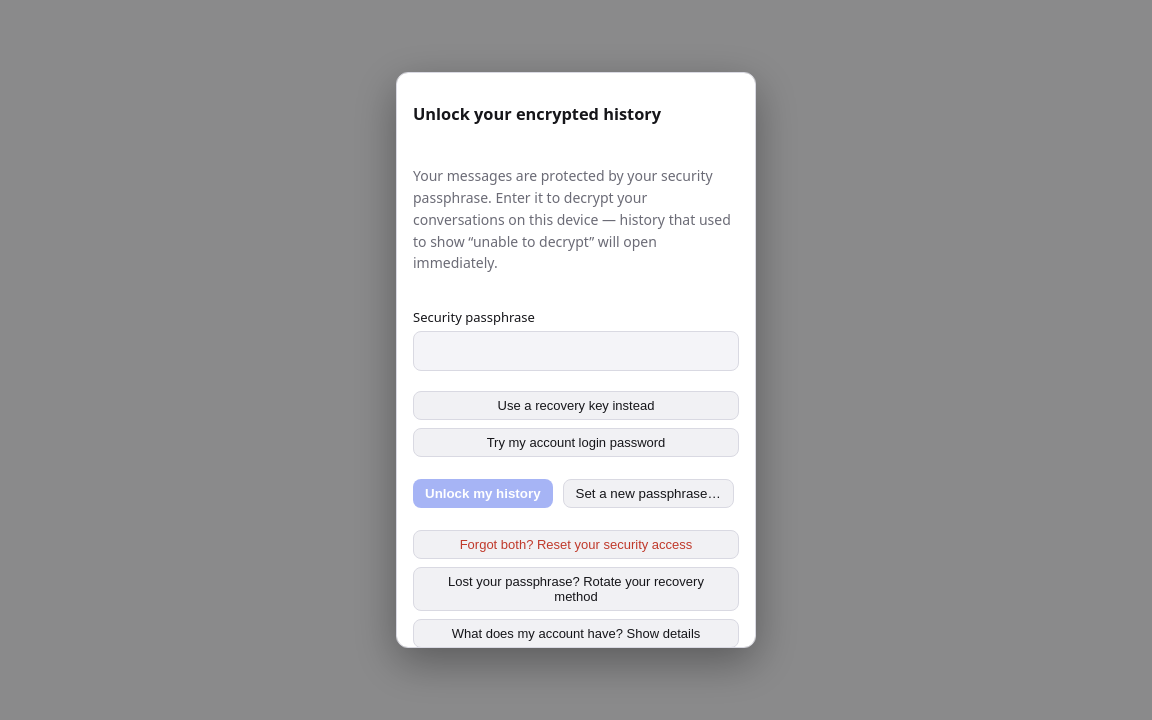
it: W24 full rotation → forced ack › edge H (master never in 4S): key view adds the honest verify-elsewhere copy
The image size is (1152, 720).
Click the button with test id "rotate-entry".
click(576, 589)  # box [413,567,739,611]
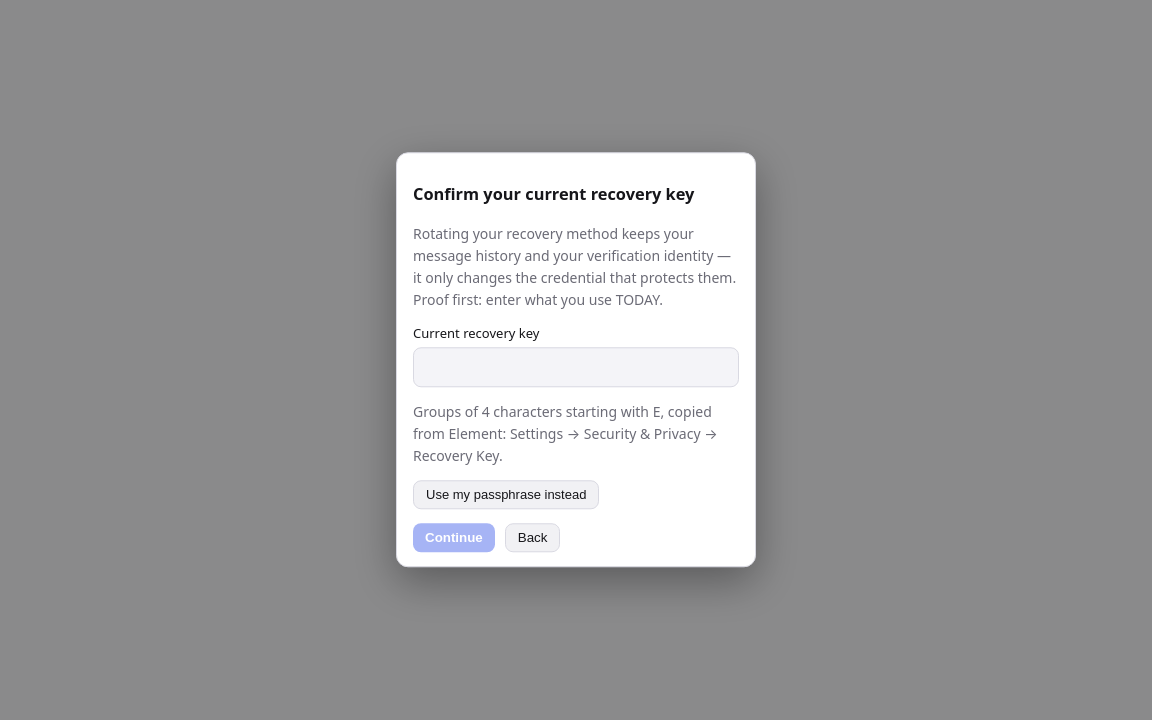
Expected: the element with test id "rotate-prove" is shown, [413,167,739,553]
Type "EoJp ABCD EFGH IJKL" into the field with test id "rotate-proof".
click(576, 368); type("EoJp ABCD EFGH IJKL")  # box [413,347,739,388]
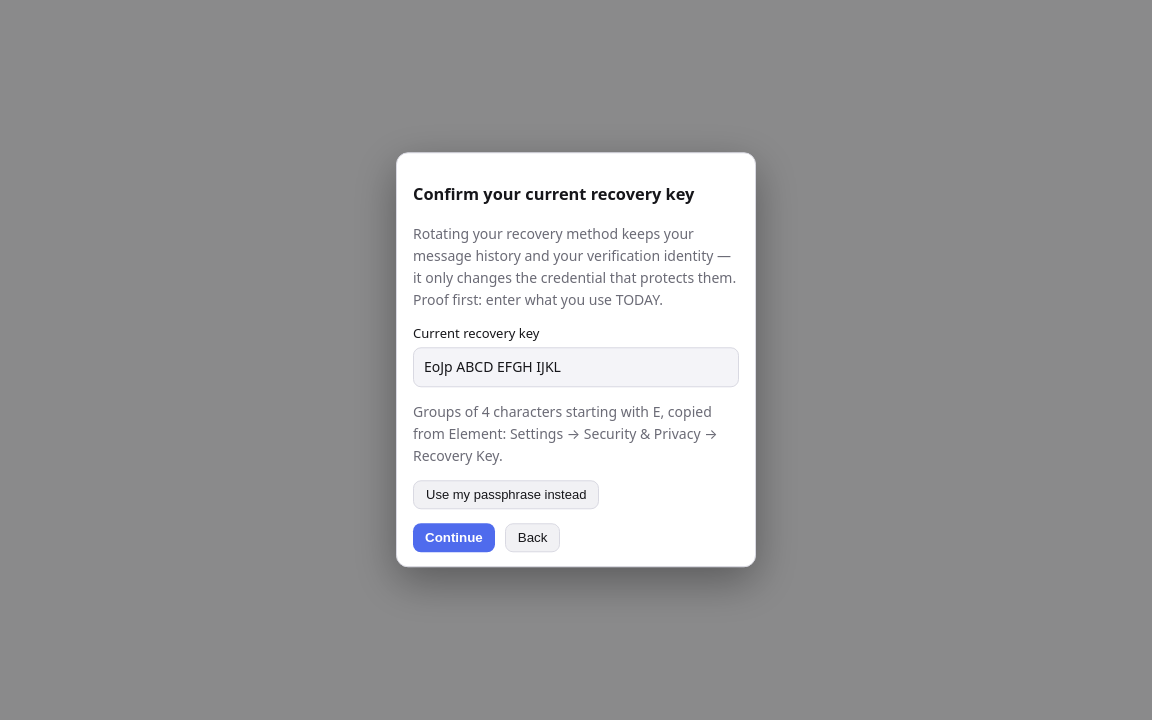
Click the button with test id "rotate-prove-next".
click(454, 538)  # box [413,524,495,553]
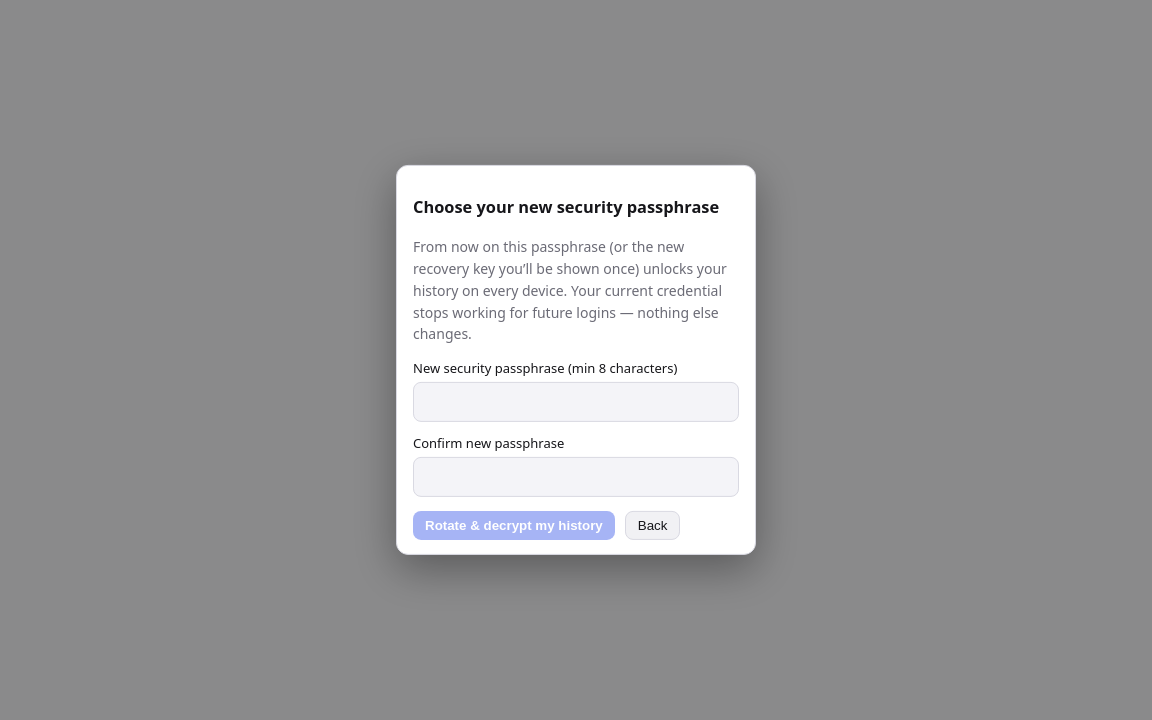
Expected: the element with test id "rotate-passphrase" is shown, [413,180,739,540]
Type "new passphrase x" into the password field with test id "rotate-pass1".
click(576, 402); type("new passphrase x")  # box [413,382,739,422]
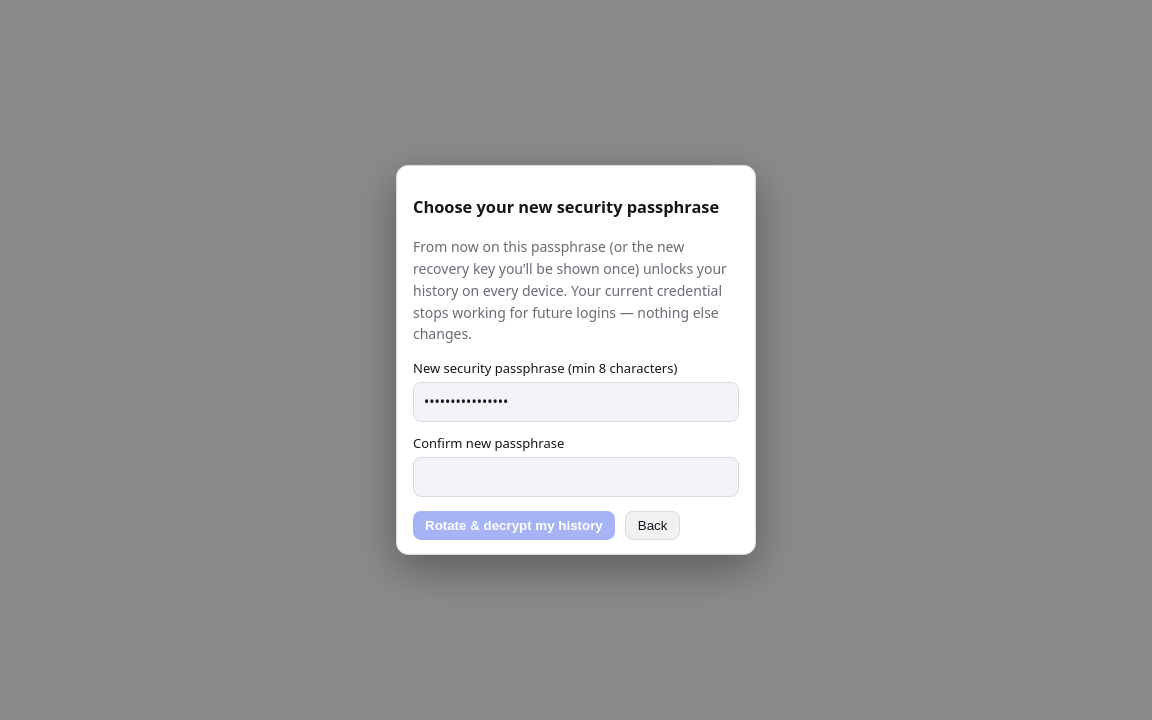
Type "new passphrase x" into the password field with test id "rotate-pass2".
click(576, 477); type("new passphrase x")  # box [413,457,739,497]
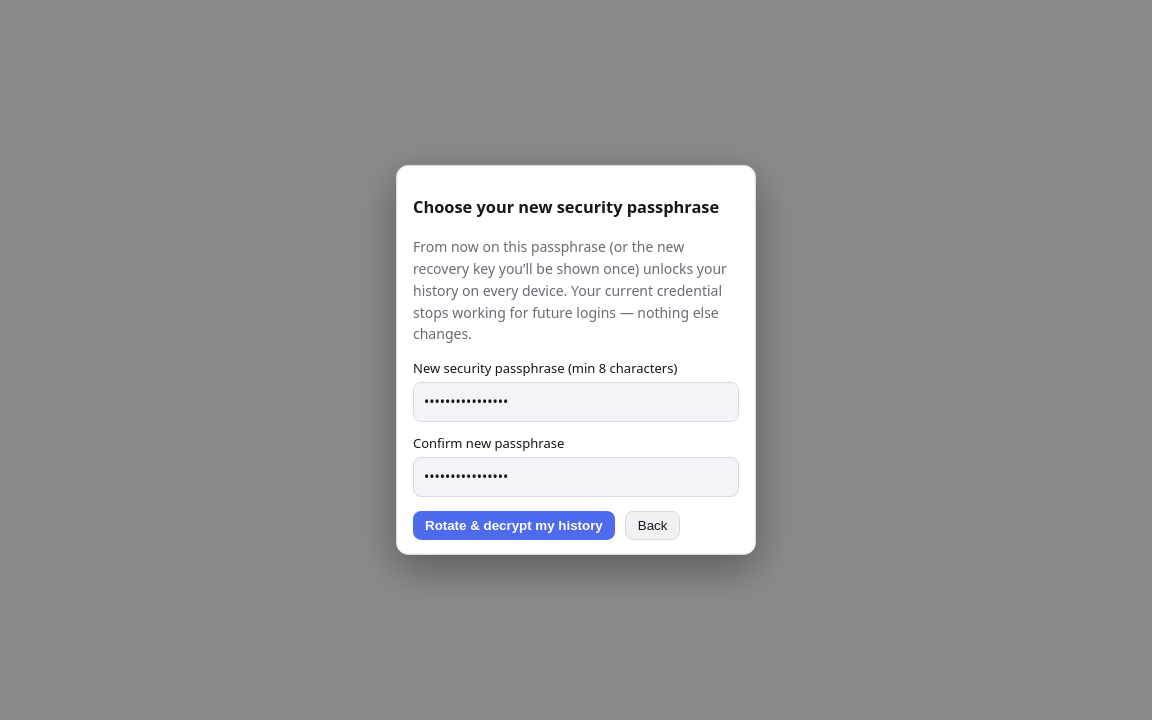
Click the button with test id "rotate-go".
click(514, 526)  # box [413,511,615,540]
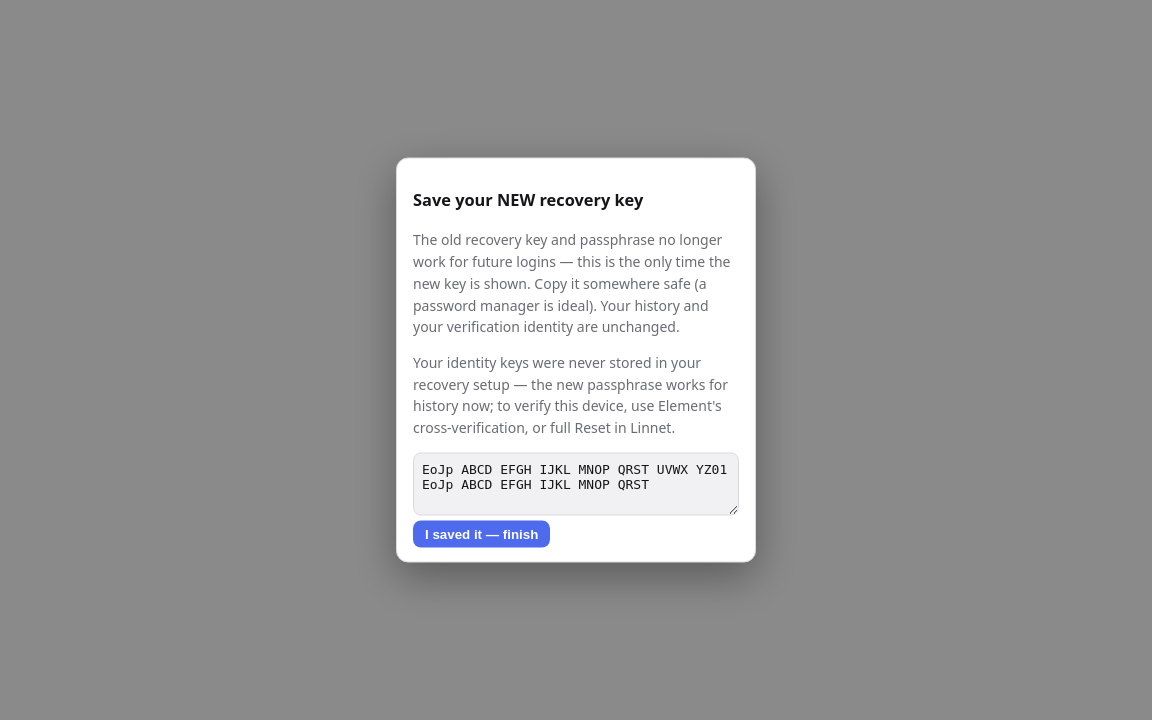
Expected: the text with test id "rotate-edgeh" is shown, [413,351,739,438]
Expected: the text with test id "rotate-edgeh" shows "never stored in your recovery setup", [413,352,728,436]
